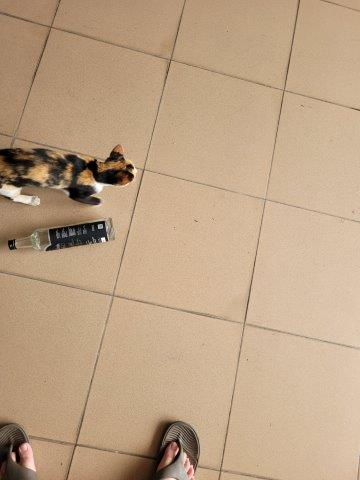botolkaca: (7, 220, 114, 252)
